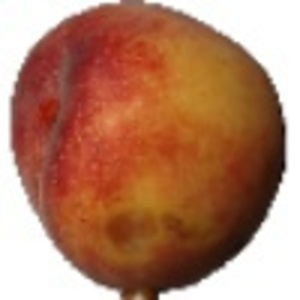pêssego: (3, 1, 288, 300)
